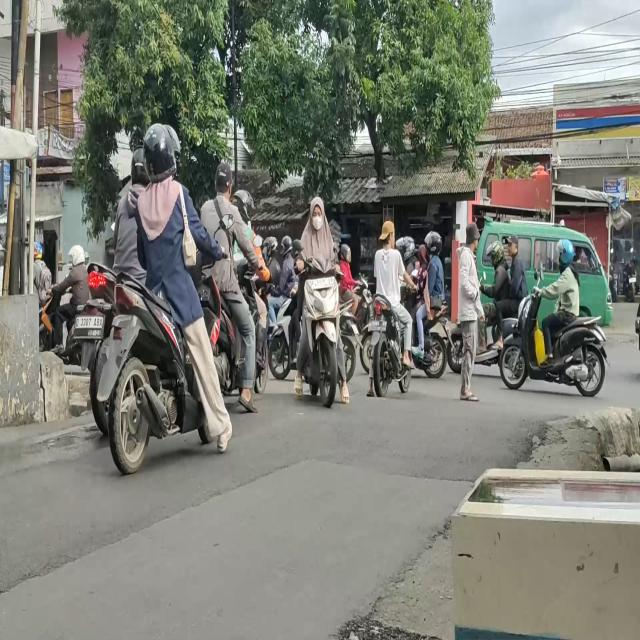helmet: (146, 130, 175, 177), (236, 190, 252, 217), (132, 148, 145, 180), (70, 247, 86, 266), (562, 239, 574, 264), (491, 241, 504, 264), (430, 230, 441, 252), (404, 236, 415, 257), (266, 238, 278, 255), (341, 244, 351, 263), (284, 236, 293, 249)
no-helmet: (215, 163, 232, 202), (309, 196, 325, 229), (380, 221, 394, 251), (508, 235, 518, 258), (418, 245, 427, 260)
